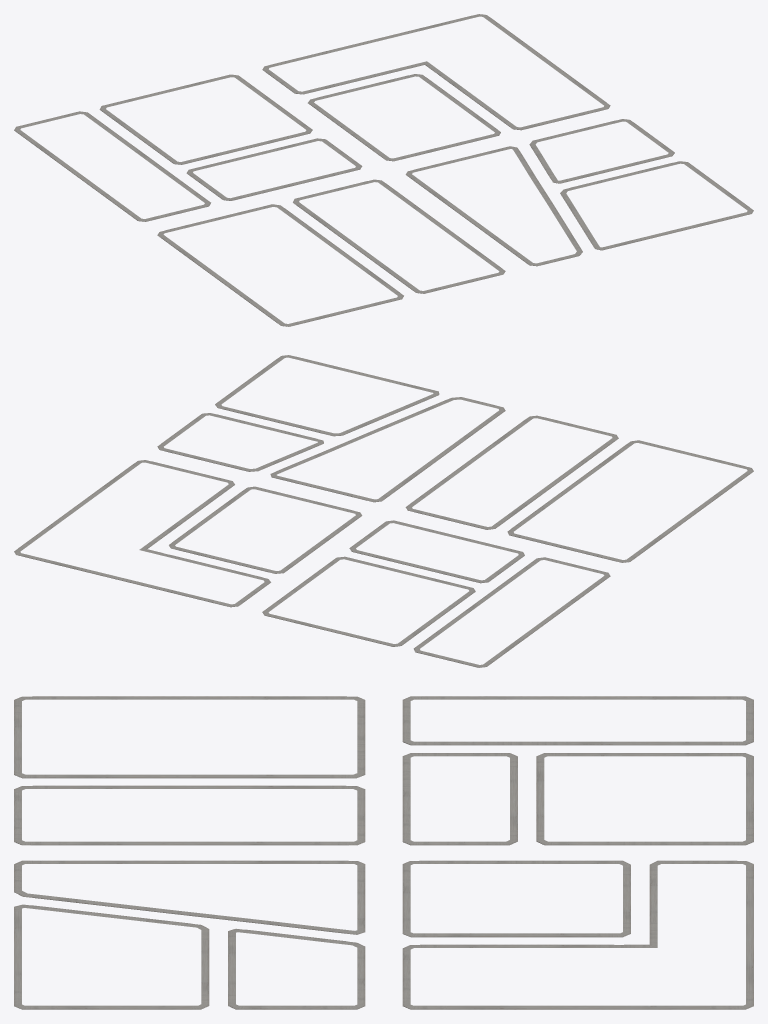
The picture shows the model from 3 angles, top to bottom: view 1: azimuth 30°, elevation 25°; view 2: azimuth 150°, elevation 25°; view 3: azimuth 270°, elevation 25°; orthographic projection. The views are drawn at different scales.
Parts seen in each view (by area): view 1: PW_4, PW_6, PW_7, PW_8, PW_1, PW_2, PW_10, PW_5, PW_3, PW_9; view 2: PW_4, PW_6, PW_8, PW_7, PW_1, PW_2, PW_10, PW_5, PW_3, PW_9; view 3: PW_4, PW_6, PW_7, PW_1, PW_8, PW_2, PW_10, PW_5, PW_3, PW_9.
Boxes of the visible parts, x1,y1,x2,y2 form: PW_4: (262, 14, 610, 130); PW_6: (157, 204, 403, 326); PW_7: (293, 179, 505, 293); PW_8: (405, 146, 582, 266); PW_1: (14, 111, 210, 221); PW_2: (99, 74, 312, 164); PW_10: (560, 161, 753, 250); PW_5: (308, 74, 500, 161); PW_3: (186, 138, 362, 200); PW_9: (529, 119, 674, 183); PW_4: (14, 460, 270, 607); PW_6: (507, 440, 753, 562); PW_8: (270, 397, 505, 502); PW_7: (405, 415, 618, 529); PW_1: (413, 557, 610, 667); PW_2: (262, 556, 475, 646); PW_10: (215, 355, 439, 436); PW_5: (169, 486, 362, 573); PW_3: (349, 520, 524, 583); PW_9: (157, 413, 323, 471); PW_4: (402, 860, 753, 1009); PW_6: (14, 696, 365, 778); PW_7: (14, 785, 365, 845); PW_1: (402, 696, 753, 745); PW_8: (14, 860, 365, 934); PW_2: (536, 753, 753, 845); PW_10: (14, 904, 209, 1009); PW_5: (402, 860, 630, 937); PW_3: (402, 753, 517, 845); PW_9: (228, 928, 365, 1009).
Size of the model in its own units: 915 by 0.4921 by 915.
